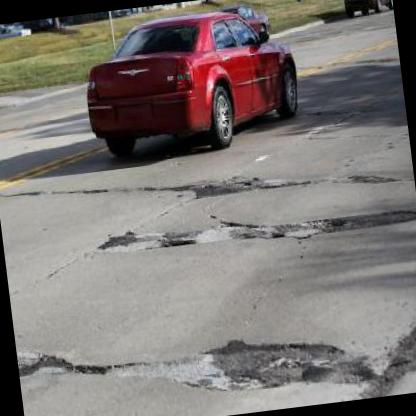pothole: (197, 320, 371, 402), (264, 203, 416, 241), (186, 166, 287, 200), (16, 348, 72, 378), (156, 231, 195, 249)
